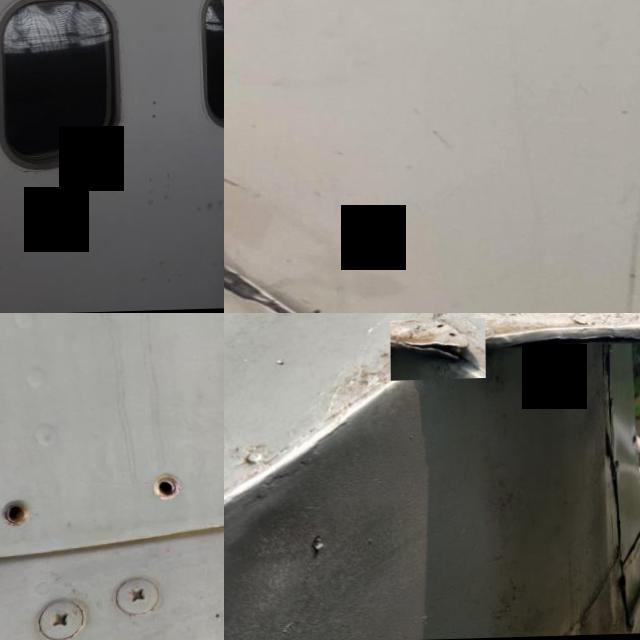Crack: (390, 320, 485, 382), (224, 242, 269, 313)
Missing_Fastener: (138, 462, 192, 516), (0, 486, 41, 542)
